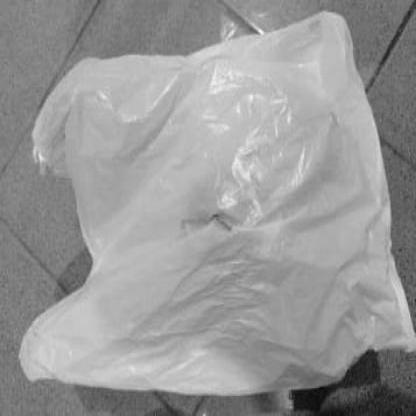objects: (22, 16, 392, 385)
